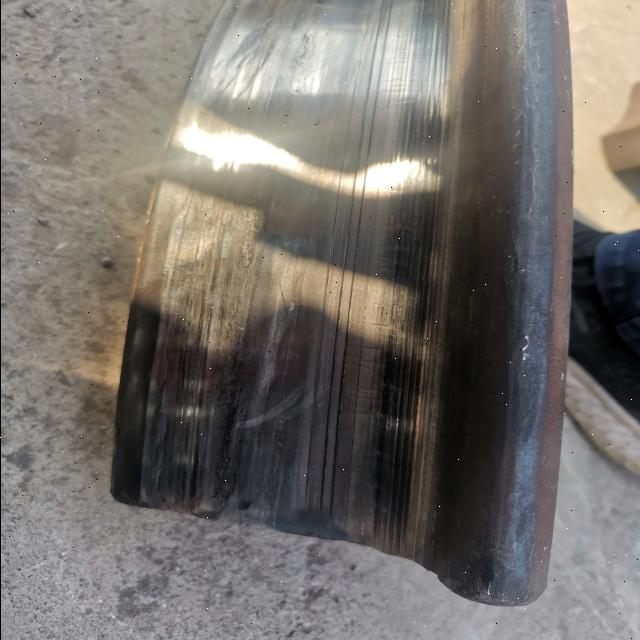hot crack: (342, 217, 418, 441), (368, 18, 426, 118)
